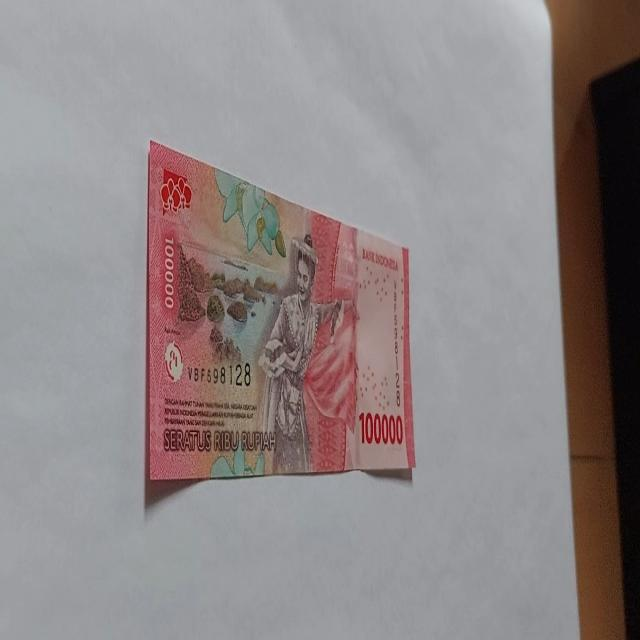seratus ribu rupiah: (145, 138, 416, 490), (256, 233, 356, 475)
